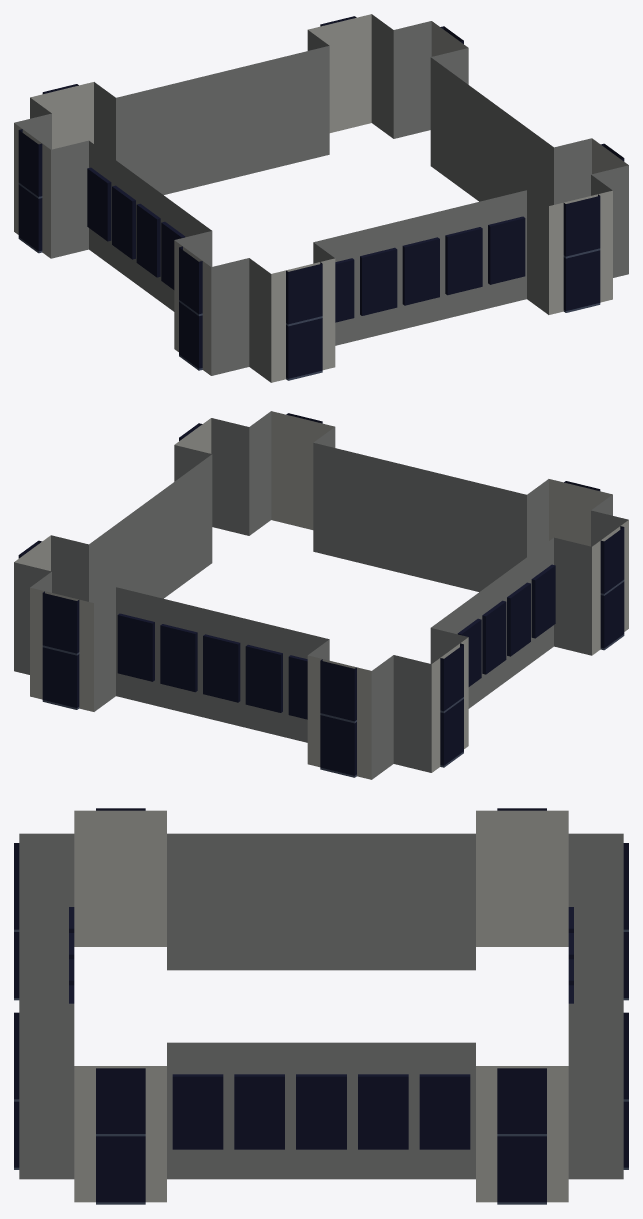
The model's file is TB_CITY_Skysc_I_BodyC_Gray.FBX.
3 renders of one model, top to bottom at view 1: azimuth 30°, elevation 25°; view 2: azimuth 150°, elevation 25°; view 3: azimuth 270°, elevation 25°, orthographic. The views are drawn at different scales.
Visible parts, largest first — view 1: TB_CITY_Skysc_I_BodyC_Gray; view 2: TB_CITY_Skysc_I_BodyC_Gray; view 3: TB_CITY_Skysc_I_BodyC_Gray.
Boxes of the visible parts, box(x1,y1,x2,y2) form: TB_CITY_Skysc_I_BodyC_Gray: box(14, 14, 628, 382); TB_CITY_Skysc_I_BodyC_Gray: box(14, 411, 628, 779); TB_CITY_Skysc_I_BodyC_Gray: box(14, 808, 628, 1204).
Size of the model in its own units: 22.4 by 5.49 by 22.4.
